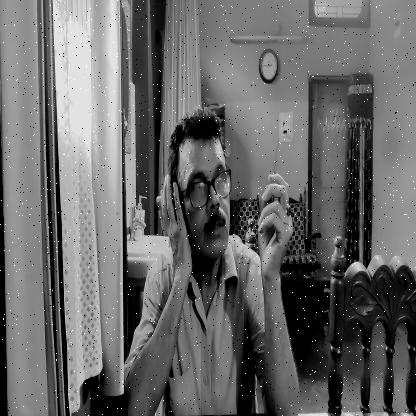Distracted: (175, 106, 233, 269)
